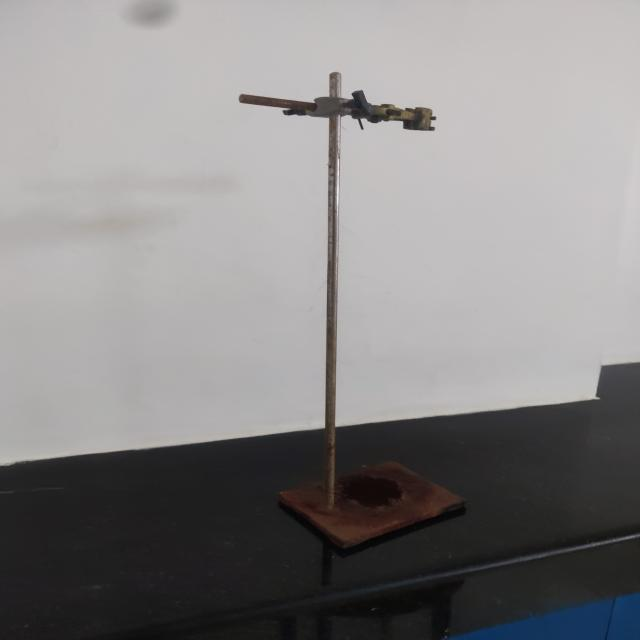Burette_Stands: (197, 40, 517, 586)
